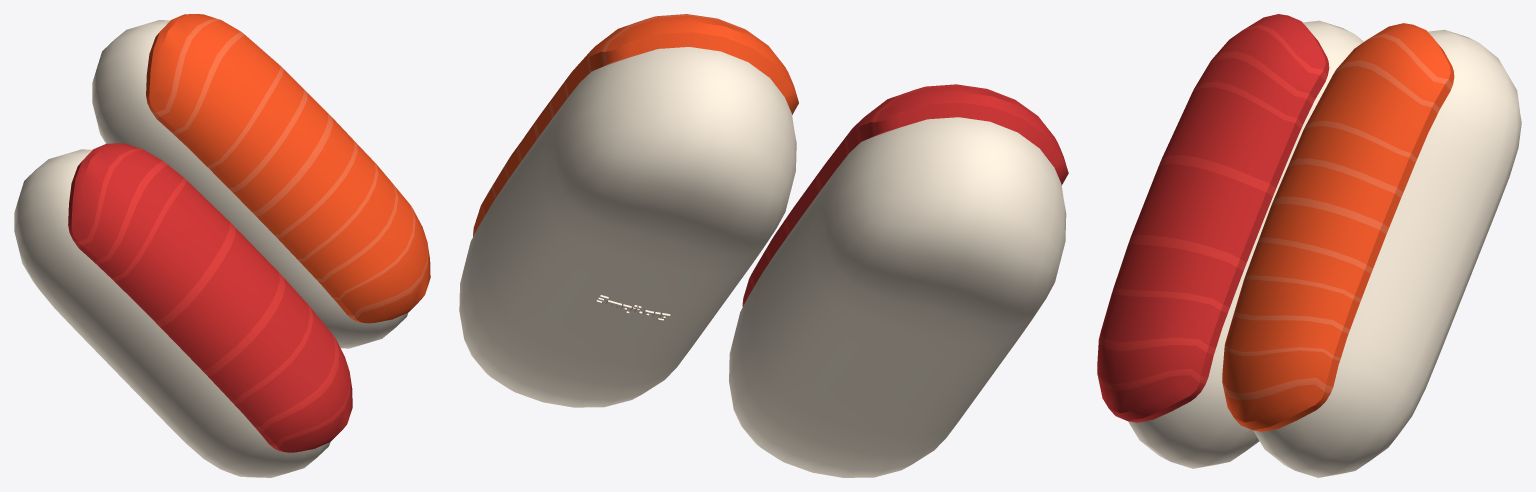
File: sushi.gltf
3 renders of one model, left to right at view 1: azimuth 30°, elevation 25°; view 2: azimuth 150°, elevation 25°; view 3: azimuth 270°, elevation 25°, orthographic. The views are drawn at different scales.
Parts seen in each view (by area): view 1: Cube.425; view 2: Cube.425; view 3: Cube.425.
Boxes of the visible parts, box(x1,y1,x2,y2) form: Cube.425: box(14, 14, 430, 477); Cube.425: box(459, 14, 1068, 477); Cube.425: box(1097, 14, 1521, 477).
Size of the model in its own units: 2.27 by 2.1 by 1.86.
Materials: 1 (1 with a texture image).
